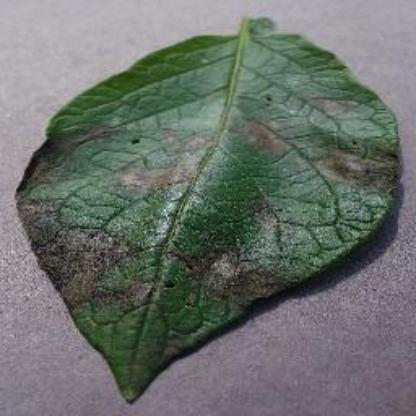Late-Blight: (13, 12, 413, 406)
